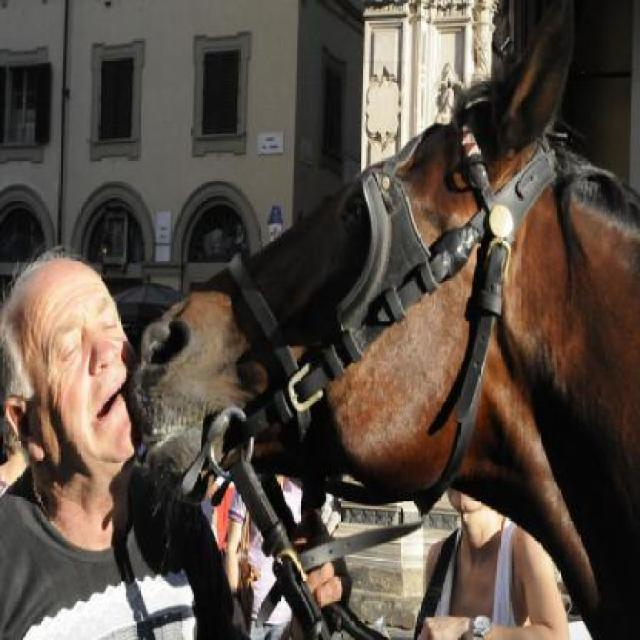Person: (1, 243, 238, 634), (416, 492, 570, 638), (222, 474, 346, 638), (210, 474, 233, 558)
